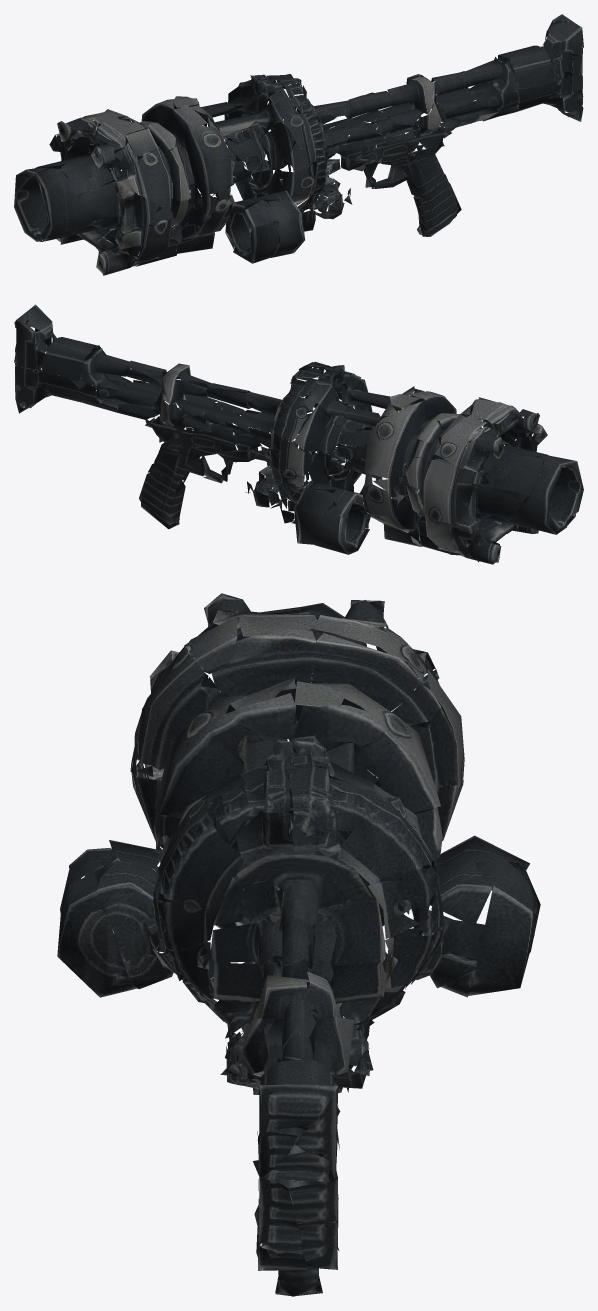
File: chaingun.glb
3 views of the same model, one above another, from view 1: azimuth 30°, elevation 25°; view 2: azimuth 150°, elevation 25°; view 3: azimuth 270°, elevation 25° (orthographic). The views are drawn at different scales.
Visible parts, largest first — view 1: Mesh_0; view 2: Mesh_0; view 3: Mesh_0.
Boxes of the visible parts, box(x1,y1,x2,y2) form: Mesh_0: box(14, 14, 583, 275); Mesh_0: box(14, 304, 583, 564); Mesh_0: box(57, 593, 540, 1296).
Size of the model in its own units: 1.9 by 0.6574 by 0.7295.
1 material, 1 textured.
